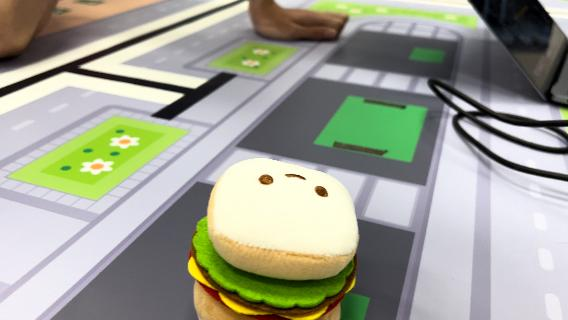sandwich: (186, 156, 362, 318)
